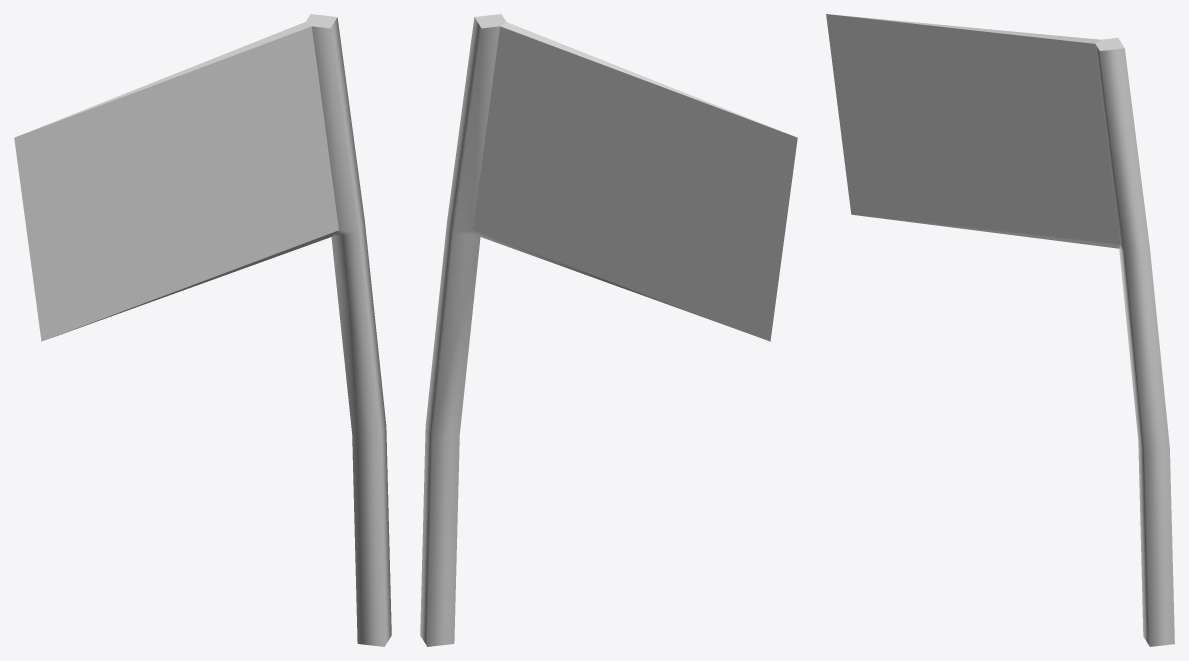
Rendered from robotflag.obj.
The picture shows the model from 3 angles, left to right: view 1: azimuth 30°, elevation 25°; view 2: azimuth 150°, elevation 25°; view 3: azimuth 330°, elevation 25°; orthographic projection. The views are drawn at different scales.
Visible parts, largest first — view 1: cylinder7; view 2: cylinder7; view 3: cylinder7.
Boxes of the visible parts, box(x1,y1,x2,y2) form: cylinder7: box(14, 14, 391, 646); cylinder7: box(420, 14, 797, 646); cylinder7: box(826, 14, 1174, 646).
Size of the model in its own units: 0.5629 by 0.8999 by 0.051.
1 material, 1 textured.
